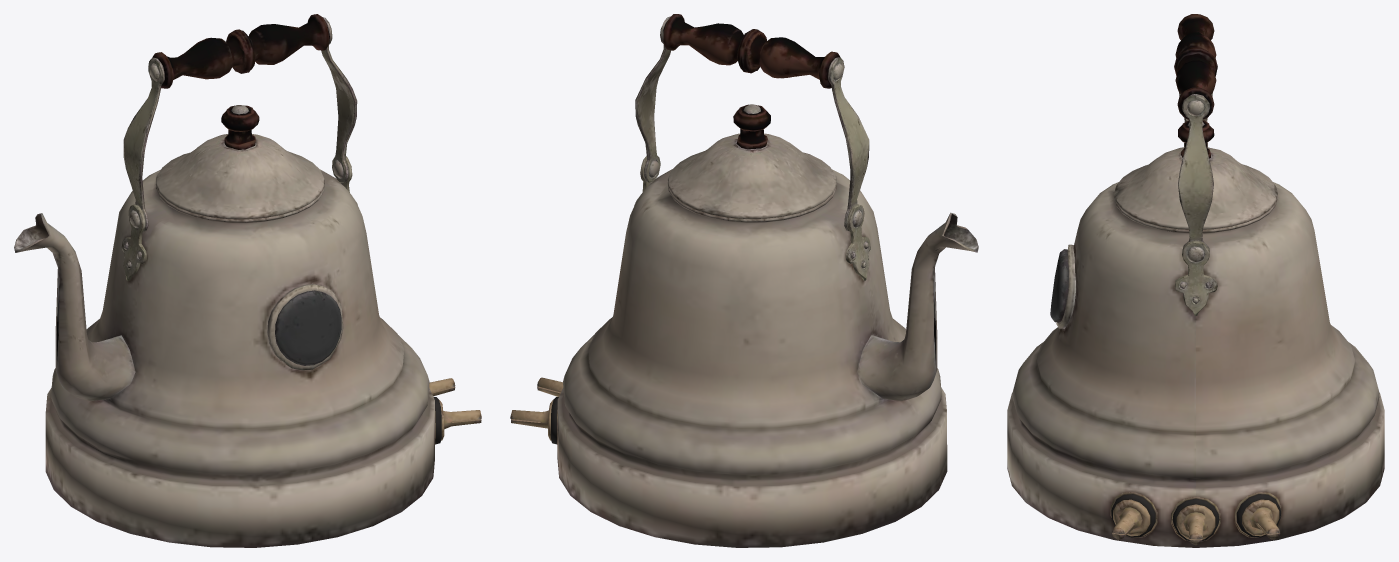
File: p_vintage_electric_kettle.glb
The picture shows the model from 3 angles, left to right: view 1: azimuth 30°, elevation 25°; view 2: azimuth 150°, elevation 25°; view 3: azimuth 270°, elevation 25°; orthographic projection. The views are drawn at different scales.
Visible parts, largest first — view 1: vintage_electric_kettle; view 2: vintage_electric_kettle; view 3: vintage_electric_kettle.
Boxes of the visible parts, x1,y1,x2,y2 form: vintage_electric_kettle: (14,14,481,547); vintage_electric_kettle: (510,14,978,547); vintage_electric_kettle: (1007,14,1384,547).
Bounding box in the file's own units: 0.3209 × 0.3044 × 0.2478.
2 materials, 2 textured.
